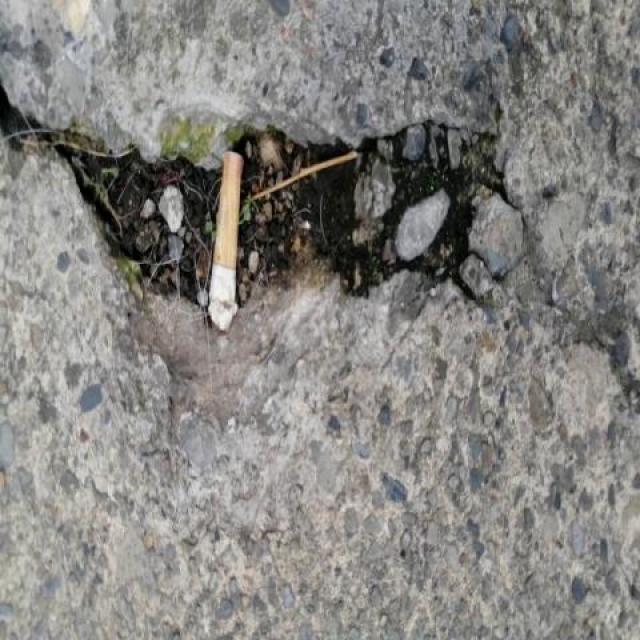non-organic waste: (200, 140, 255, 341)
